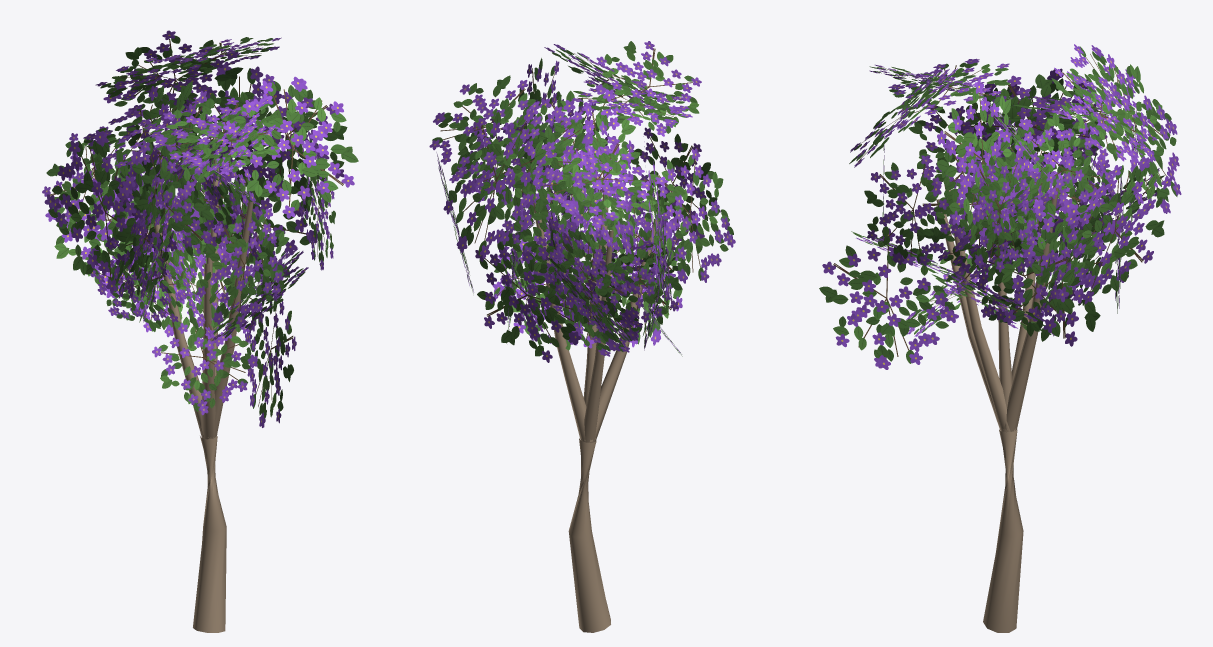
The model's file is pleroma-granulosum.glb.
3 renders of one model, left to right at view 1: azimuth 30°, elevation 25°; view 2: azimuth 150°, elevation 25°; view 3: azimuth 270°, elevation 25°, orthographic. The views are drawn at different scales.
Visible parts, largest first — view 1: folhas, tronco; view 2: folhas, tronco; view 3: folhas, tronco.
Part boxes in pixels (x1,y1,x2,y2): folhas: [42, 30, 358, 427]; tronco: [153, 159, 253, 632]; folhas: [429, 41, 735, 362]; tronco: [533, 190, 659, 632]; folhas: [819, 44, 1181, 369]; tronco: [936, 167, 1058, 632].
Bounding box in the file's own units: 3.87 × 8 × 5.
2 materials, 1 textured.
